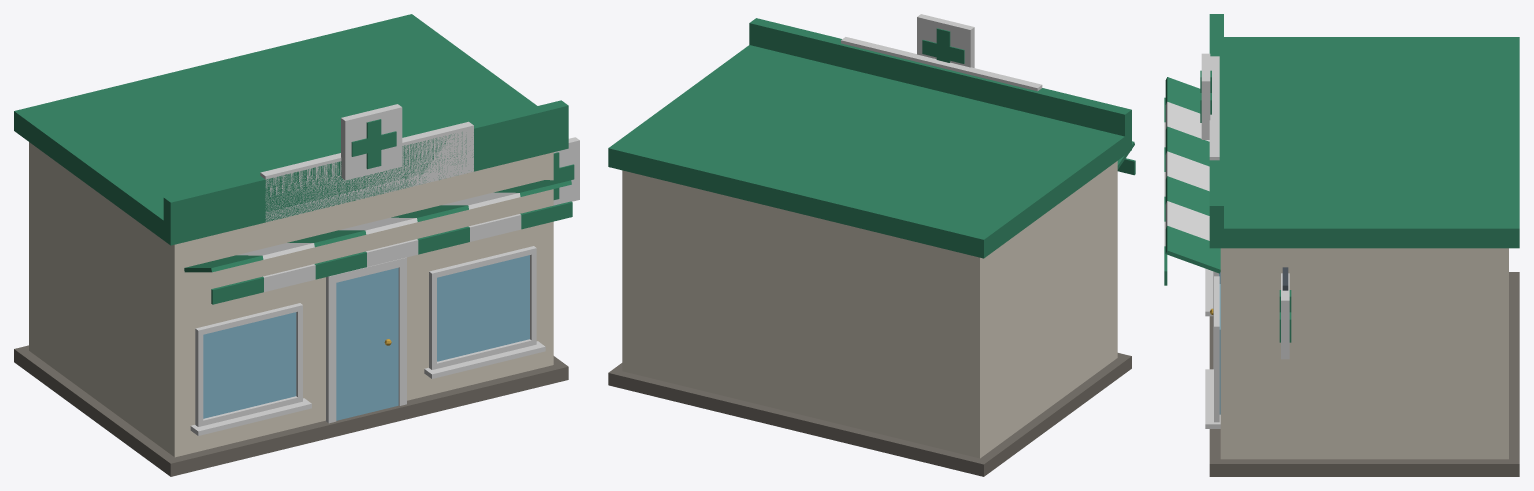
The model's file is pharmacy.gltf.
3 renders of one model, left to right at view 1: azimuth 30°, elevation 25°; view 2: azimuth 150°, elevation 25°; view 3: azimuth 270°, elevation 25°, orthographic. The views are drawn at different scales.
Parts seen in each view (by area): view 1: pharmacy; view 2: pharmacy; view 3: pharmacy.
Part boxes in pixels (<box>): pharmacy: <box>14,14,579,476</box>; pharmacy: <box>608,14,1135,476</box>; pharmacy: <box>1164,14,1519,476</box>.
Bounding box in the file's own units: 7.05 × 4.8 × 4.93.
